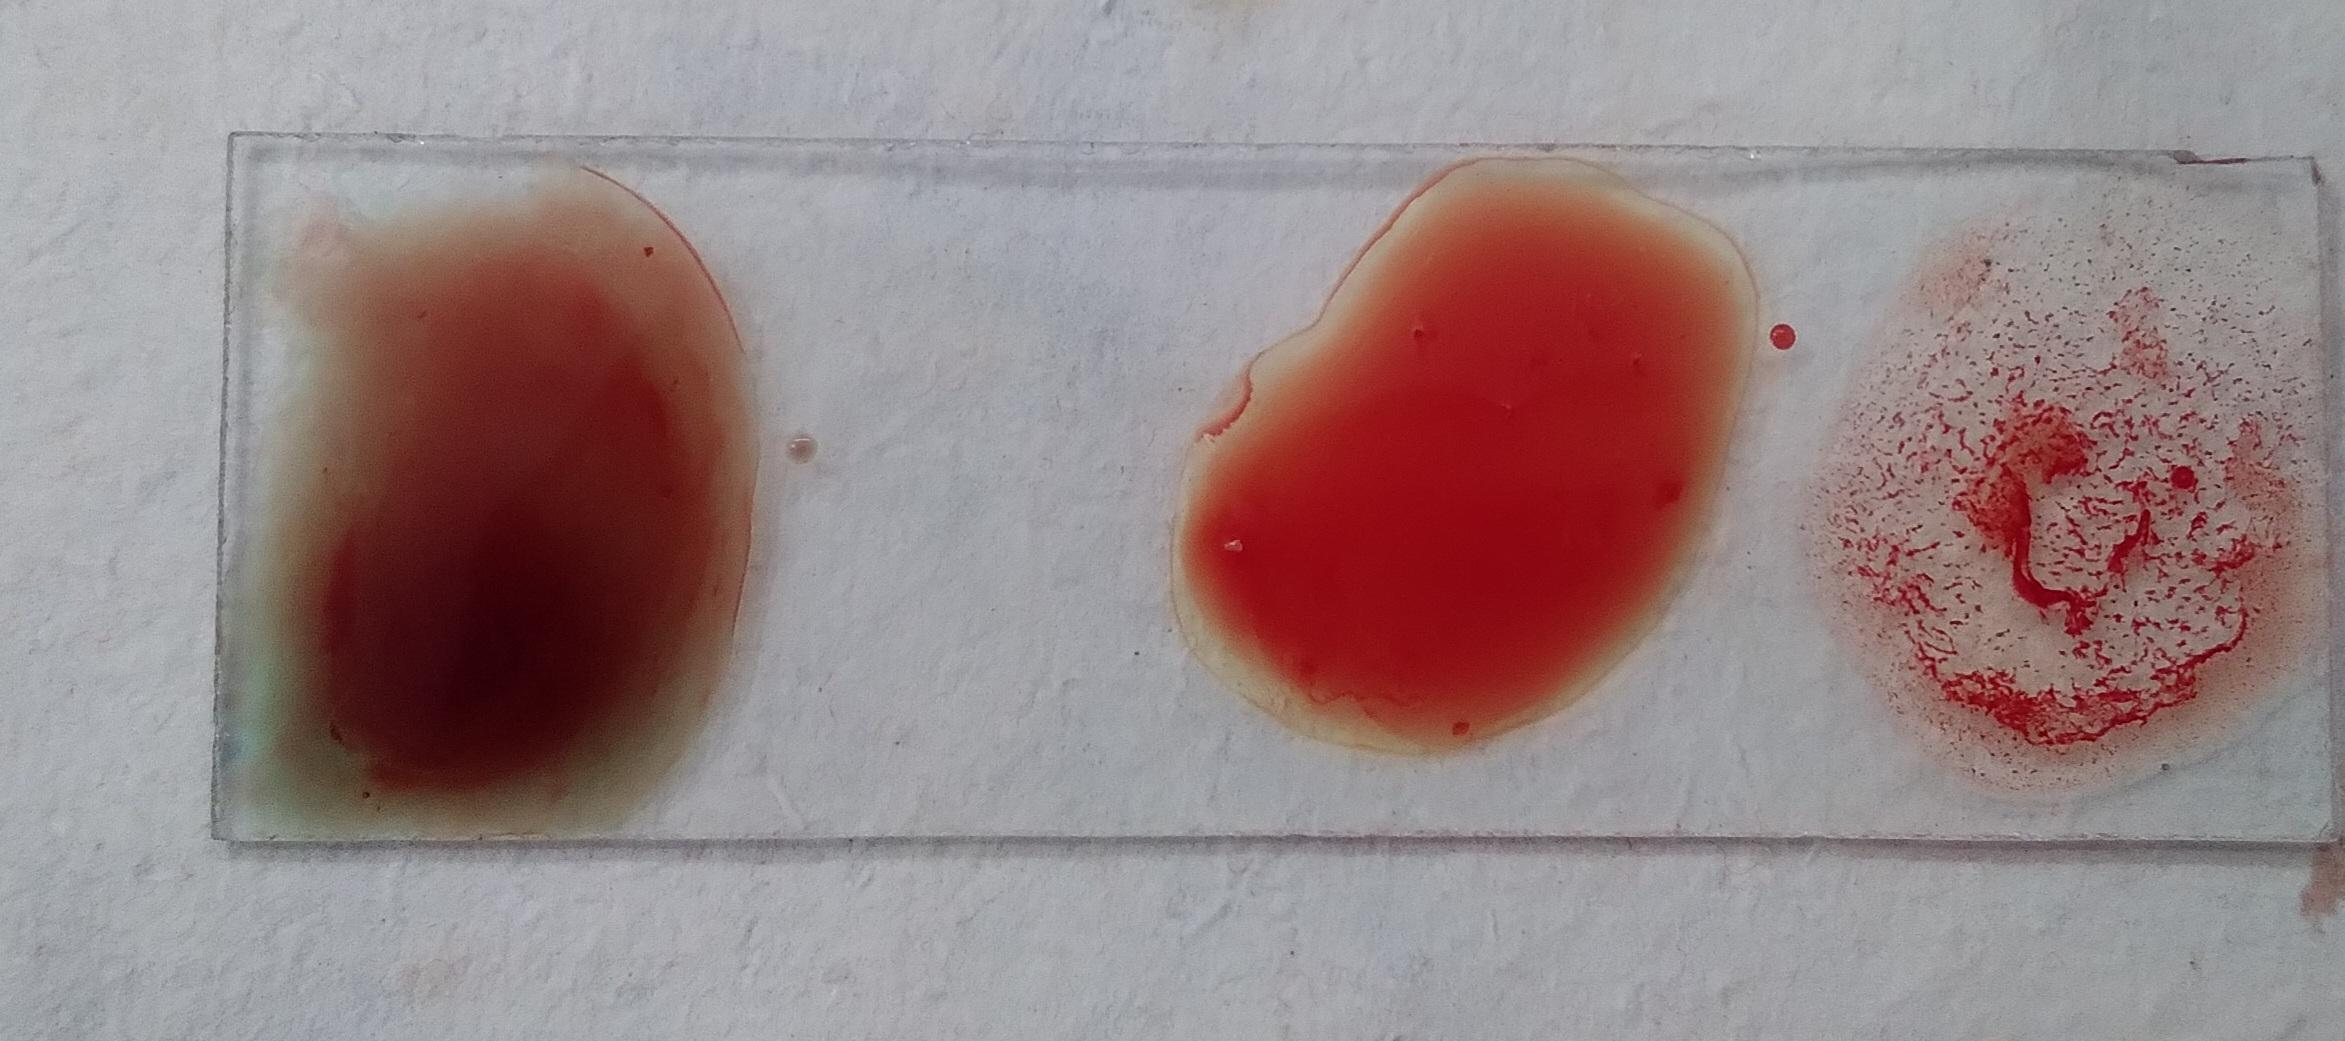D: (1871, 212, 2327, 782)
